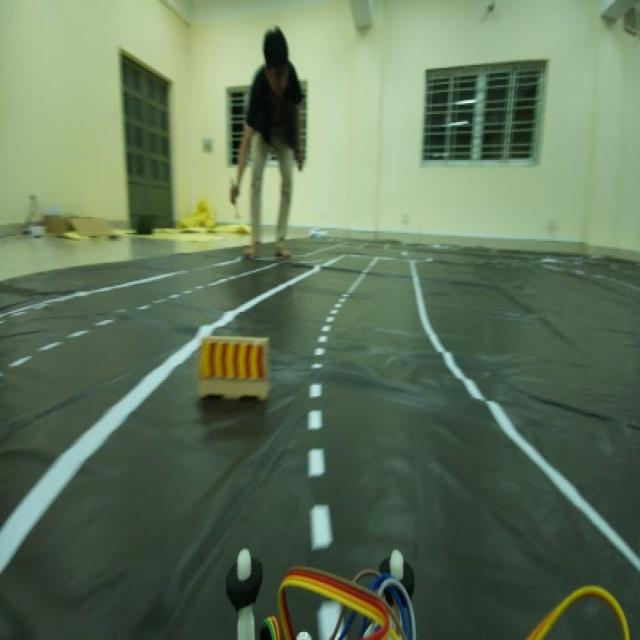roadblock: (194, 333, 284, 412)
